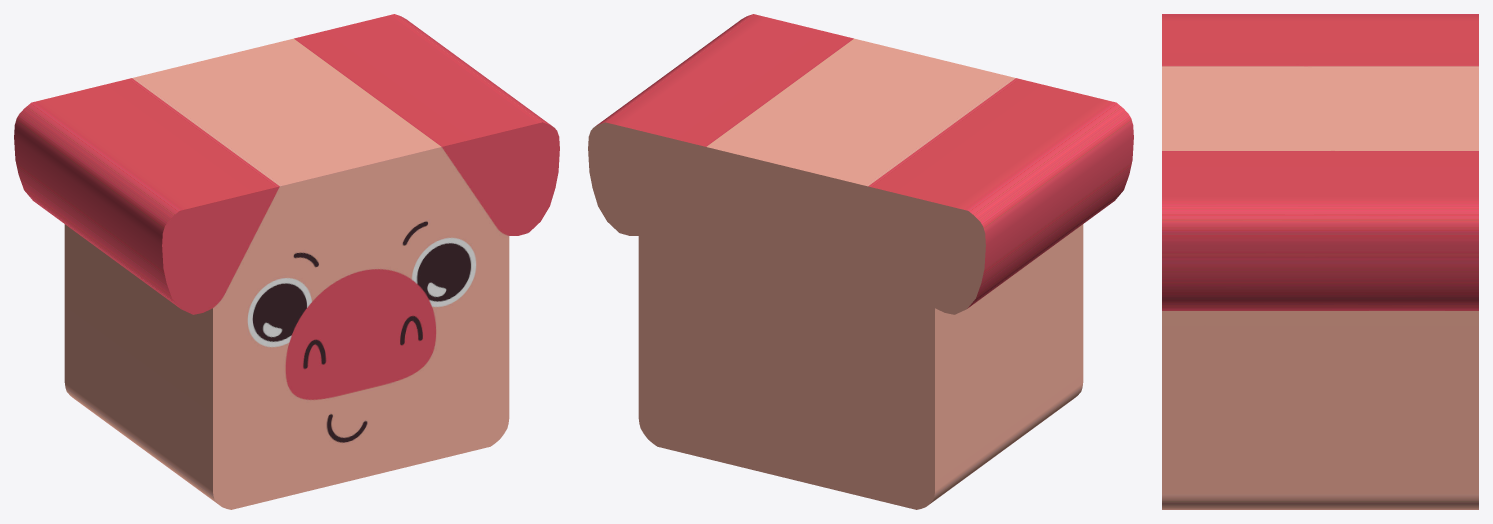
Rendered from Pig.fbx.
3 views of the same model, side by side, from view 1: azimuth 30°, elevation 25°; view 2: azimuth 150°, elevation 25°; view 3: azimuth 270°, elevation 25° (orthographic). The views are drawn at different scales.
Parts seen in each view (by area): view 1: Pig; view 2: Pig; view 3: Pig.
Part boxes in pixels (box(x1,y1,x2,y2)): Pig: box(14, 14, 559, 509); Pig: box(588, 14, 1133, 509); Pig: box(1162, 14, 1478, 509).
Size of the model in its own units: 7.18 by 5.37 by 4.63.
1 material, 1 textured.
